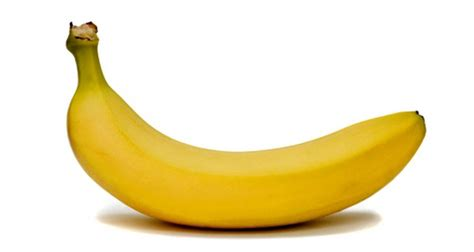banana: (59, 78, 429, 234)
